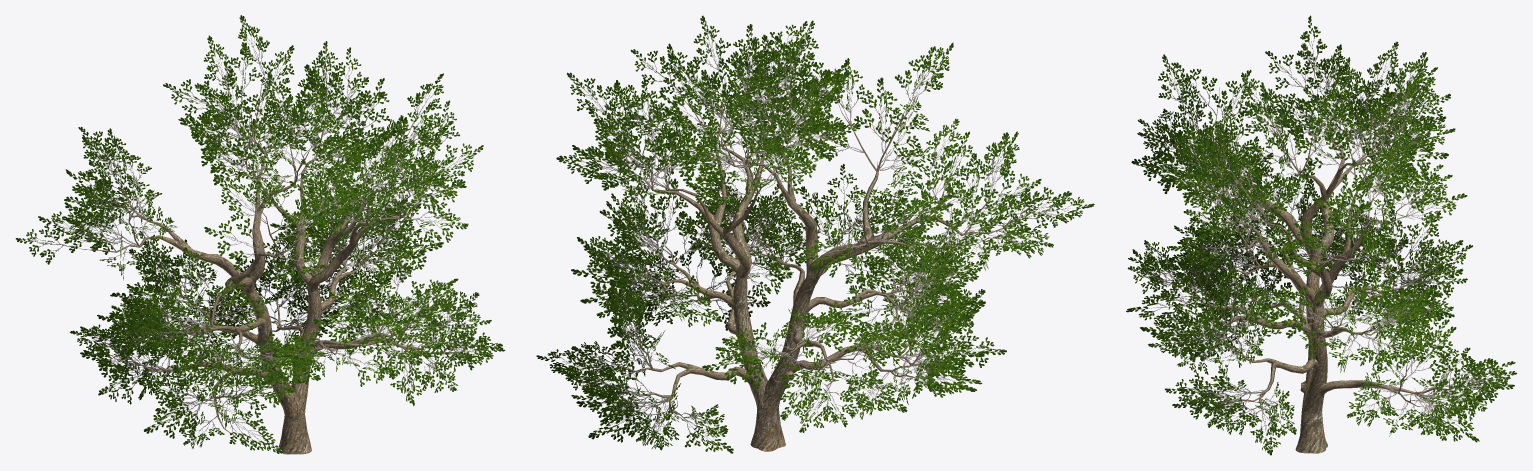
File: oak.glb
3 renders of one model, left to right at view 1: azimuth 30°, elevation 25°; view 2: azimuth 150°, elevation 25°; view 3: azimuth 270°, elevation 25°, orthographic. The views are drawn at different scales.
Visible parts, largest first — view 1: oak leaf_1, mossybark02_0; view 2: oak leaf_1, mossybark02_0; view 3: oak leaf_1, mossybark02_0.
Part boxes in pixels (x1,y1,x2,y2): oak leaf_1: (15, 15, 505, 453); mossybark02_0: (78, 70, 446, 454); oak leaf_1: (536, 15, 1094, 453); mossybark02_0: (605, 79, 1030, 451); oak leaf_1: (1126, 15, 1516, 455); mossybark02_0: (1177, 81, 1467, 453).
Size of the model in its own units: 10.53 by 8.83 by 8.2.
Materials: 2 (2 with a texture image).
